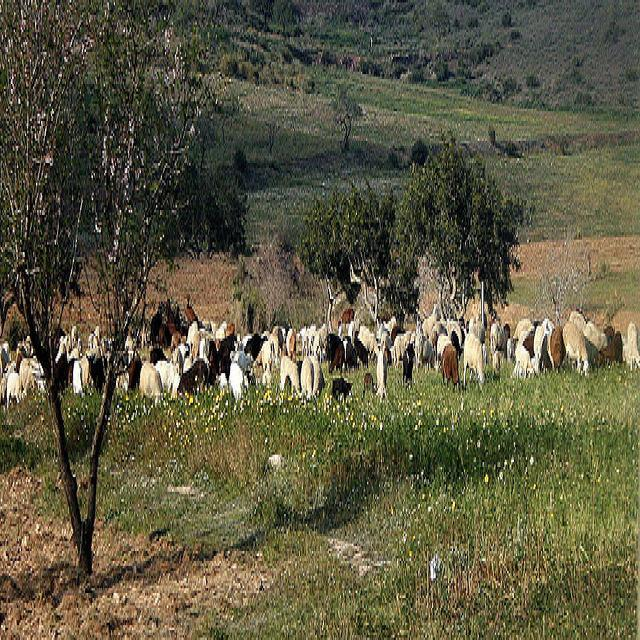cow: (0, 274, 638, 460), (175, 334, 220, 396), (299, 349, 326, 396), (115, 349, 141, 391), (137, 359, 160, 406), (439, 338, 458, 393), (154, 356, 178, 393), (514, 341, 534, 378), (549, 324, 564, 371), (253, 339, 271, 376), (537, 331, 551, 373), (218, 341, 229, 376), (190, 326, 201, 358), (287, 329, 298, 358)
